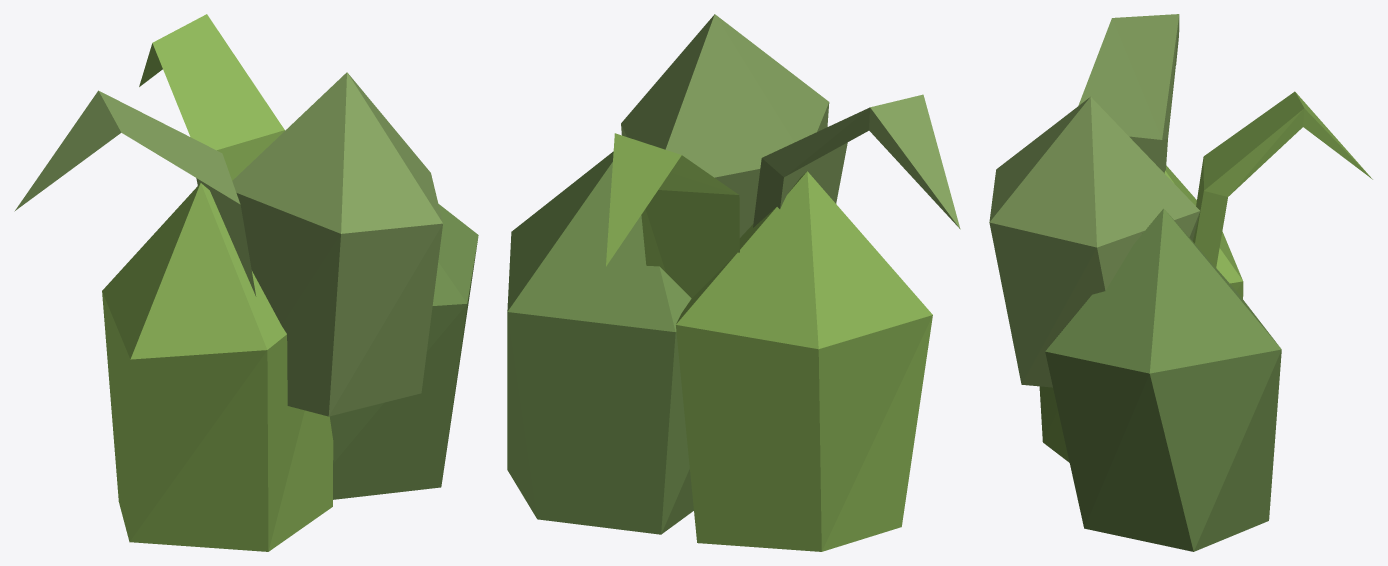
Rendered from rice_2.obj.
3 views of the same model, side by side, from view 1: azimuth 30°, elevation 25°; view 2: azimuth 150°, elevation 25°; view 3: azimuth 270°, elevation 25° (orthographic). The views are drawn at different scales.
Visible parts, largest first — view 1: rice_2; view 2: rice_2; view 3: rice_2.
Part boxes in pixels (x1=…): rice_2: x1=14, y1=14, x2=478, y2=551; rice_2: x1=507, y1=14, x2=960, y2=551; rice_2: x1=989, y1=14, x2=1372, y2=551.
Size of the model in its own units: 0.4363 by 0.4054 by 0.358.
